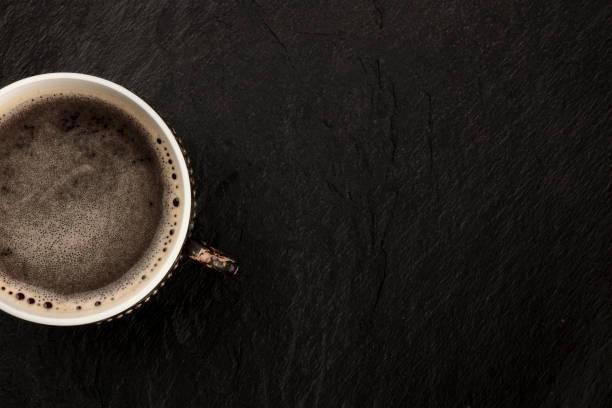cup-handle: (0, 70, 239, 329)
